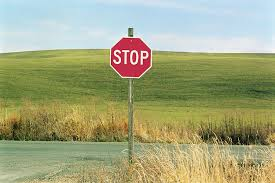stop_sign: (109, 37, 153, 79)
